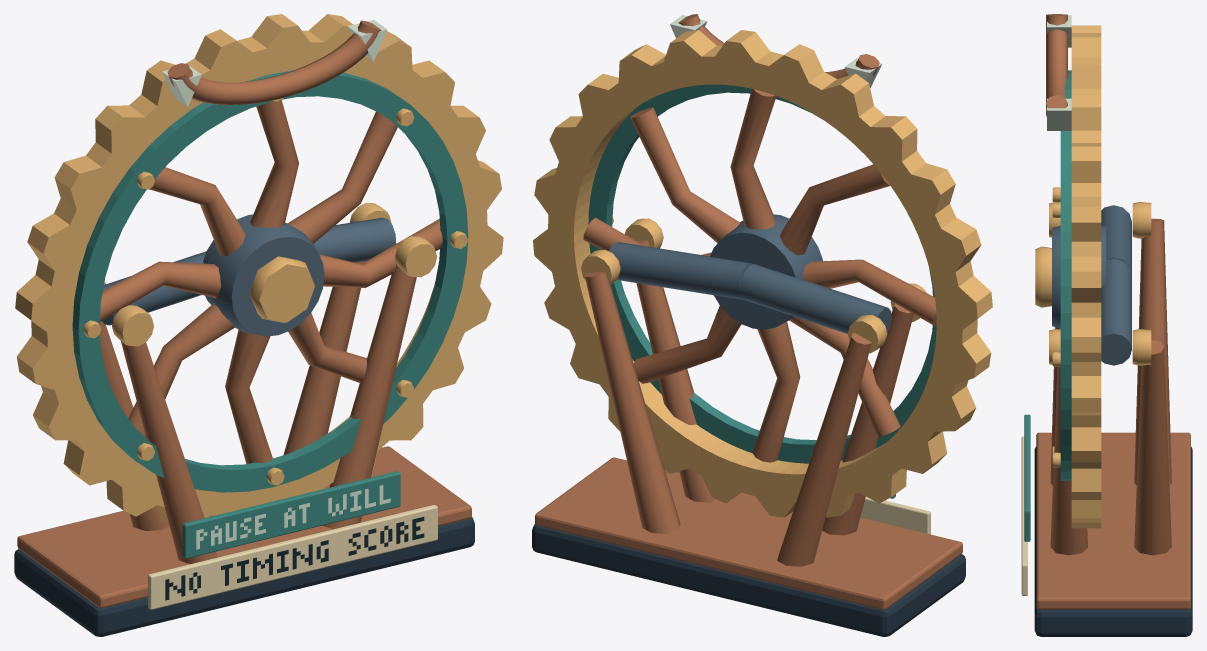
3 renders of one model, left to right at view 1: azimuth 30°, elevation 25°; view 2: azimuth 150°, elevation 25°; view 3: azimuth 270°, elevation 25°, orthographic. The views are drawn at different scales.
Visible parts, largest first — view 1: PR091 enamel and hardware; view 2: PR091 enamel and hardware; view 3: PR091 enamel and hardware.
Boxes of the visible parts, x1,y1,x2,y2 form: PR091 enamel and hardware: (14,14,503,636); PR091 enamel and hardware: (532,14,992,636); PR091 enamel and hardware: (1021,14,1192,636).
Size of the model in its own units: 2.4 by 2.66 by 0.8182.
